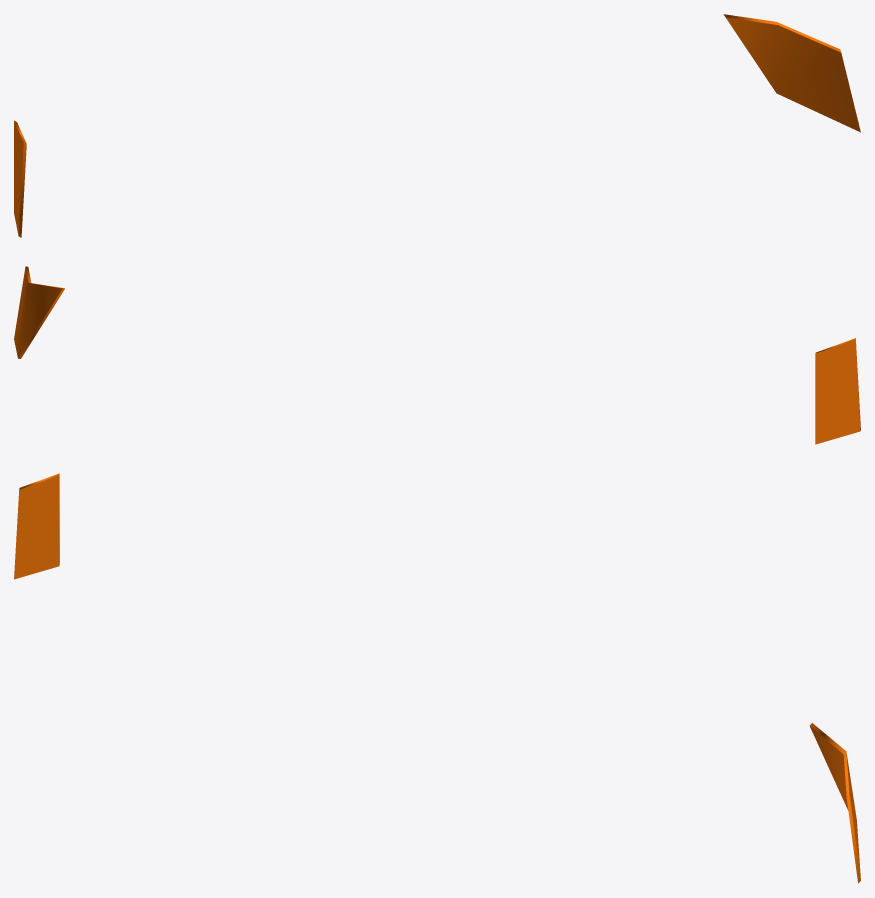
Rendered from car-indicator-left.dae.
3 renders of one model, top to bottom at view 1: azimuth 30°, elevation 25°; view 2: azimuth 150°, elevation 25°; view 3: azimuth 330°, elevation 25°, orthographic.
Parts seen in each view (by area): view 1: SedanBlinker-Left; view 2: SedanBlinker-Left; view 3: SedanBlinker-Left.
Part boxes in pixels (left/top/right/bottom): SedanBlinker-Left: left=14, top=14, right=860, bottom=237; SedanBlinker-Left: left=14, top=266, right=860, bottom=444; SedanBlinker-Left: left=14, top=473, right=860, bottom=883.
Bounding box in the file's own units: 0.929 × 0.1029 × 0.21.
